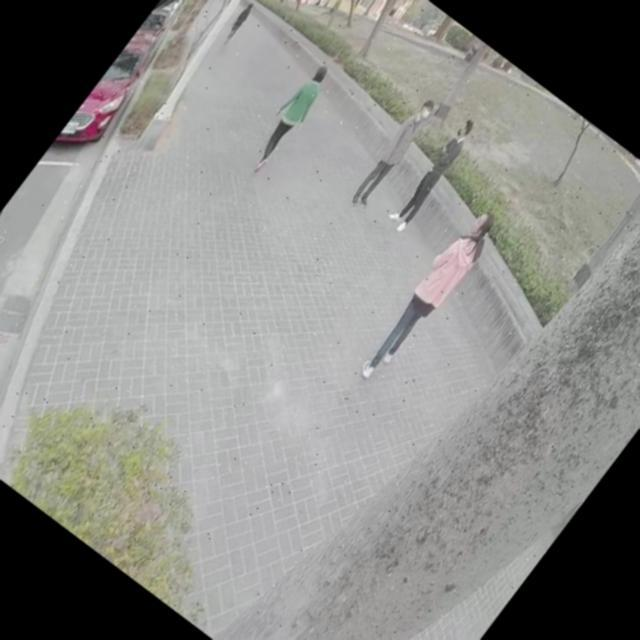person: (352, 201, 508, 389), (386, 118, 482, 235), (243, 60, 339, 175), (348, 97, 439, 209), (220, 1, 258, 46)
